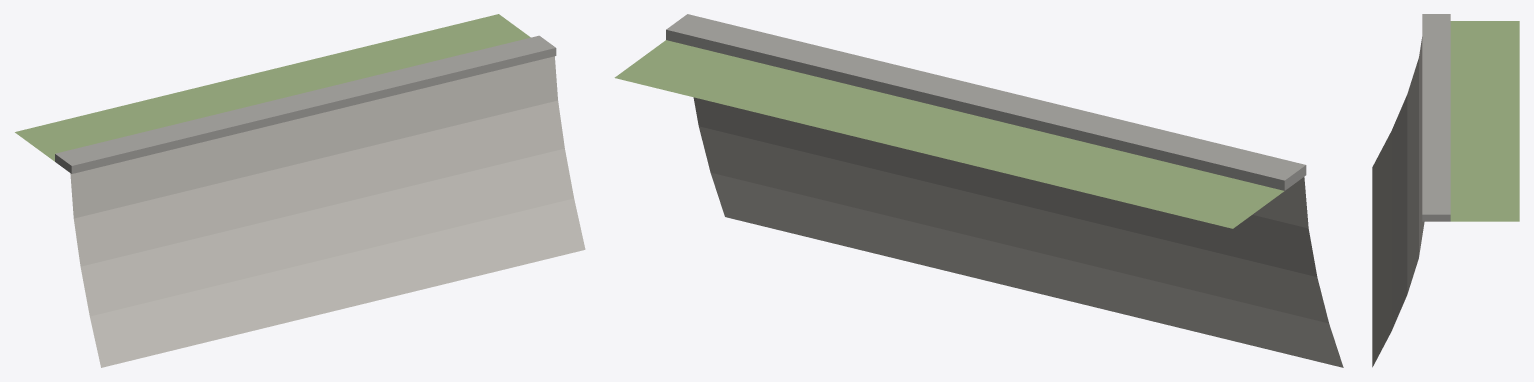
The model's file is HK_Ishigaki.glb.
The picture shows the model from 3 angles, left to right: view 1: azimuth 30°, elevation 25°; view 2: azimuth 150°, elevation 25°; view 3: azimuth 270°, elevation 25°; orthographic projection. The views are drawn at different scales.
Parts seen in each view (by area): view 1: HK_Ishigaki; view 2: HK_Ishigaki; view 3: HK_Ishigaki.
Boxes of the visible parts, x1,y1,x2,y2 form: HK_Ishigaki: (15, 14, 585, 367); HK_Ishigaki: (614, 14, 1343, 367); HK_Ishigaki: (1372, 14, 1519, 367).
Size of the model in its own units: 10 by 3.56 by 3.1.
